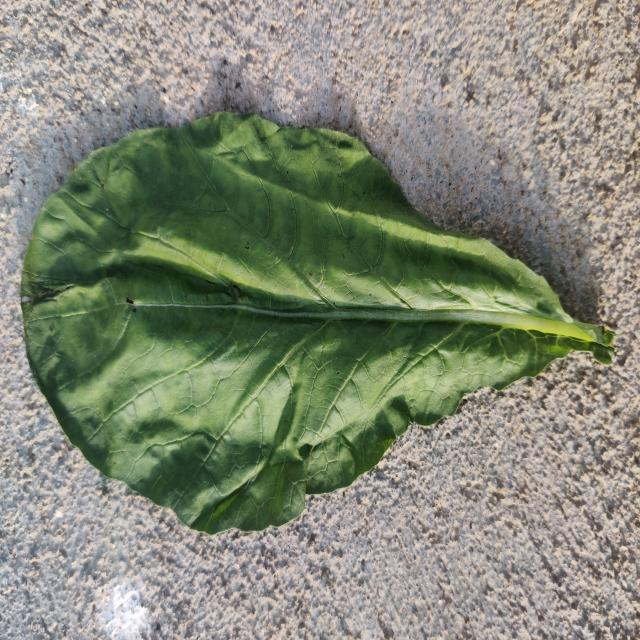leaf: (19, 109, 617, 535)
